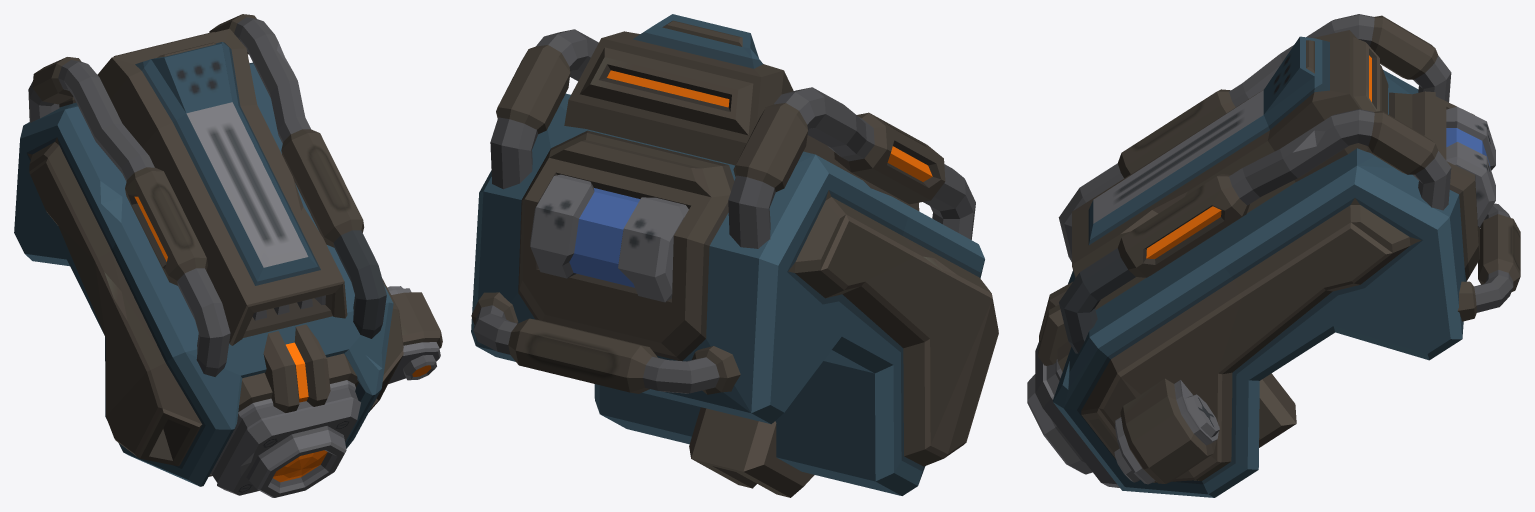
File: SM_Mech_Head_01_Armor_Helmet_01.fbx
3 renders of one model, left to right at view 1: azimuth 30°, elevation 25°; view 2: azimuth 150°, elevation 25°; view 3: azimuth 270°, elevation 25°, orthographic. The views are drawn at different scales.
Parts seen in each view (by area): view 1: SM_Mech_Head_01_Armor_Helmet_01; view 2: SM_Mech_Head_01_Armor_Helmet_01; view 3: SM_Mech_Head_01_Armor_Helmet_01.
Boxes of the visible parts, bbox=[...] form: SM_Mech_Head_01_Armor_Helmet_01: bbox=[14, 14, 442, 497]; SM_Mech_Head_01_Armor_Helmet_01: bbox=[471, 14, 998, 497]; SM_Mech_Head_01_Armor_Helmet_01: bbox=[1027, 14, 1520, 497].
Size of the model in its own units: 53.37 by 61.72 by 66.47.
